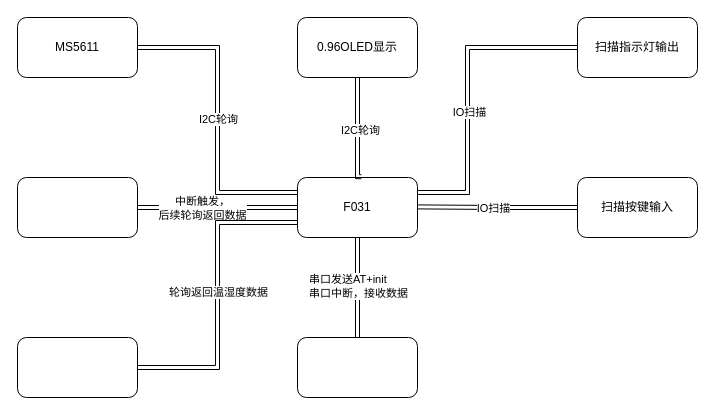
Some shapes in this 715 by 415 pixel diagram are drawn without their labels. Here are the shapes that lost their labels. From the top down, the box of each, then its label:
(16, 176, 138, 238): MPU6050
(16, 336, 138, 398): SHT30
(296, 336, 418, 398): EC-01G
